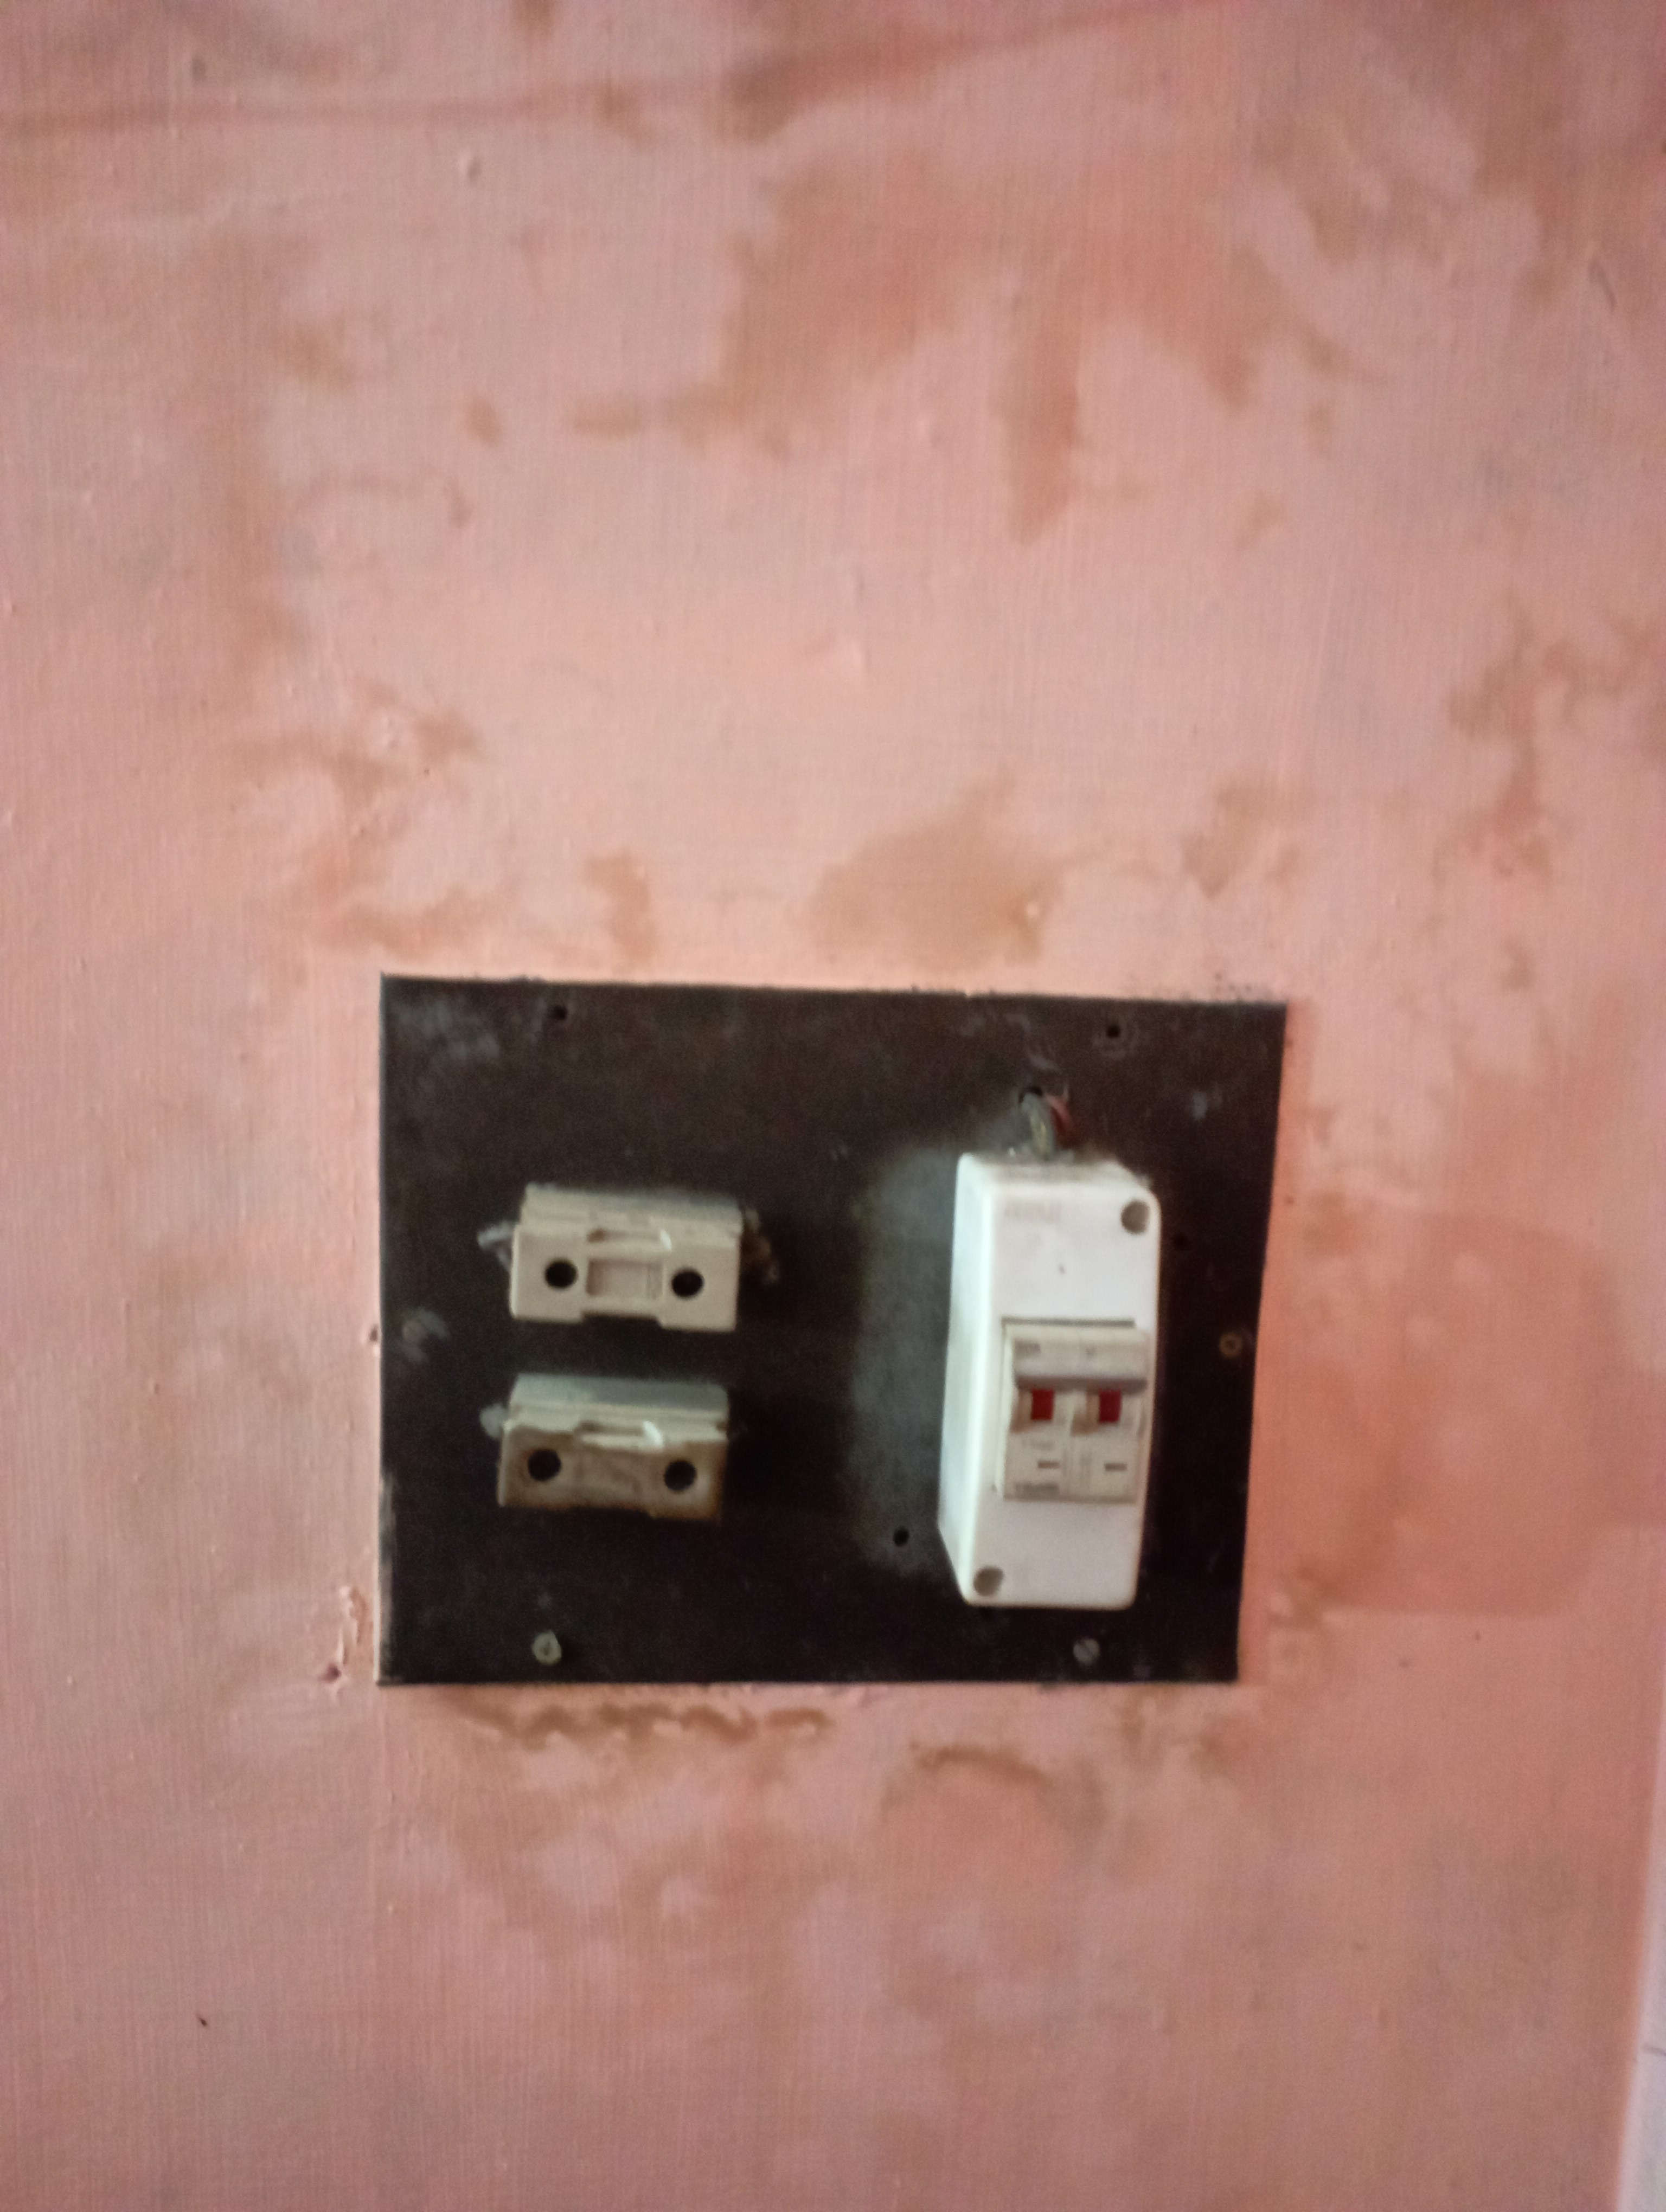ciruit_breaker: (926, 1154, 1181, 1621)
fuse: (481, 1177, 763, 1339), (472, 1392, 772, 1520)
